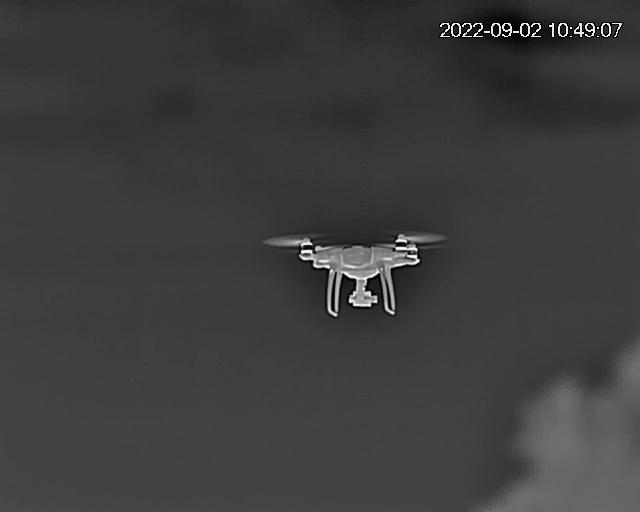DJI-Phantom: (260, 226, 455, 317)
